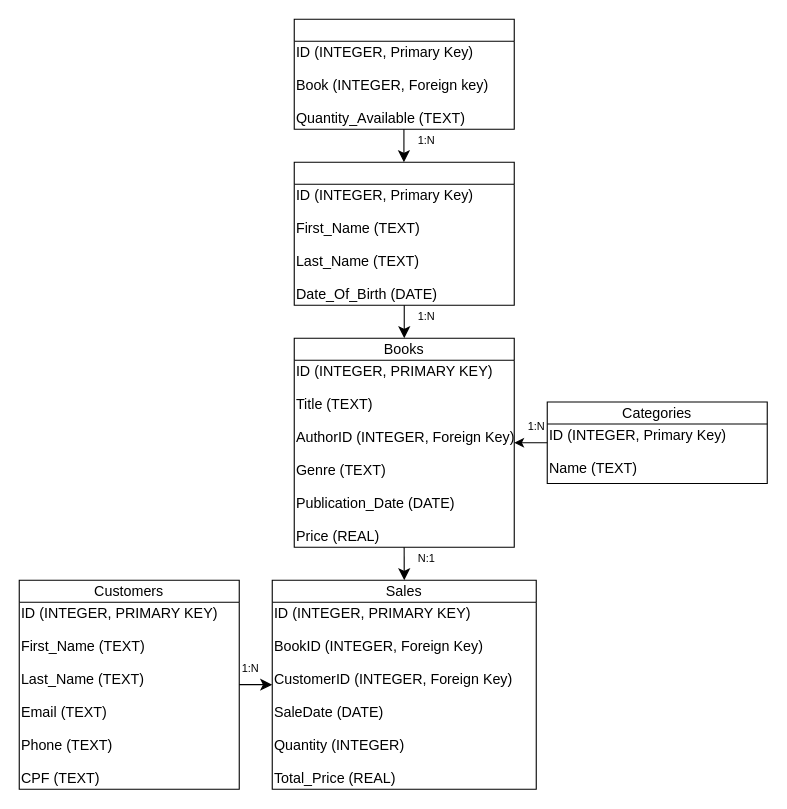
This 787x809 diagram has some shape labels left out. The shapes that lost their labels are listed below. From the top down, each one's box as (x1, y1, x2, y2) in pixels, then its label:
(293, 18, 514, 129): Stock
(293, 161, 514, 305): Authors
